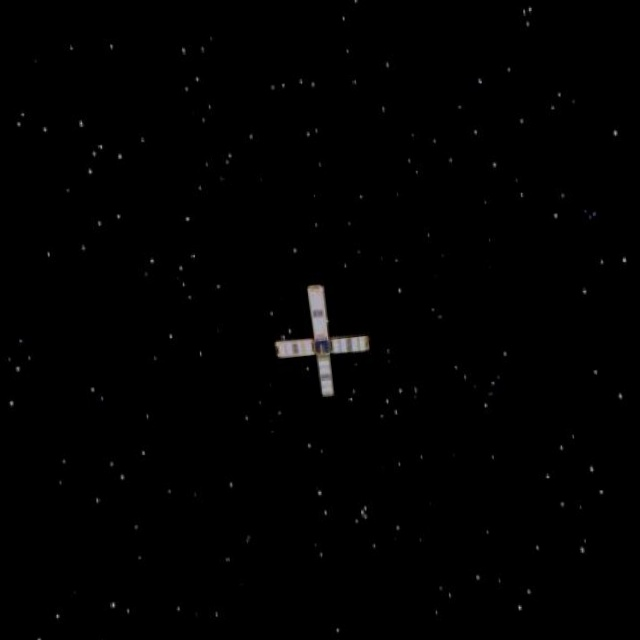satellite: (250, 266, 383, 419)
